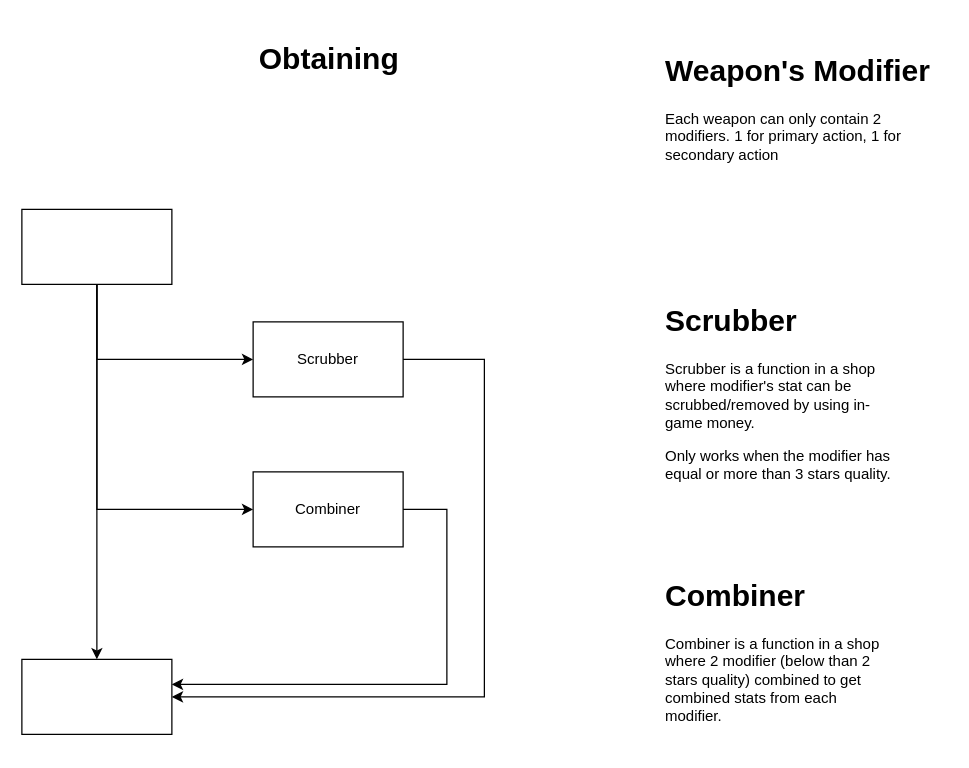
Image size: 969x768. Some labels were removed from this diagram. The shapes that lost their labels are listed below. From the top down, each one's centre as x and y in pixels, then its label:
the point at 96,246: Randomizer
the point at 96,696: modifier
